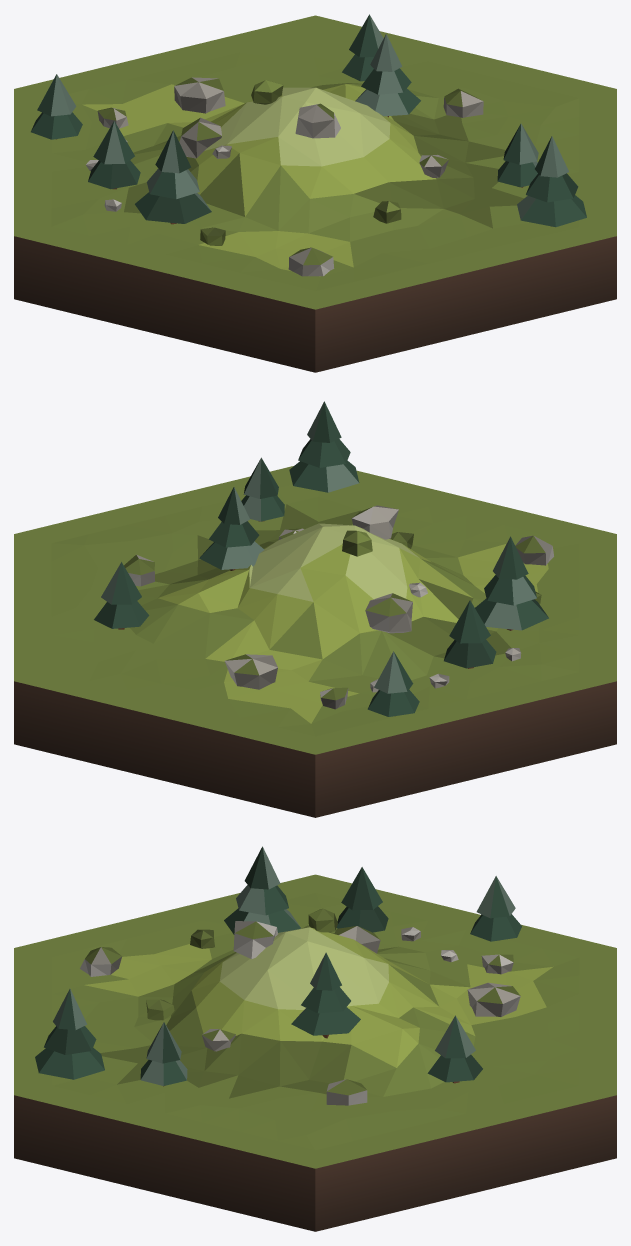
The model's file is SM_Tile_Hills_B.fbx.
3 views of the same model, one above another, from view 1: azimuth 30°, elevation 25°; view 2: azimuth 150°, elevation 25°; view 3: azimuth 270°, elevation 25° (orthographic).
Parts seen in each view (by area): view 1: SM_Tile_Hills_B; view 2: SM_Tile_Hills_B; view 3: SM_Tile_Hills_B.
Part boxes in pixels (<box>): SM_Tile_Hills_B: <box>14,14,616,372</box>; SM_Tile_Hills_B: <box>14,401,616,817</box>; SM_Tile_Hills_B: <box>14,846,616,1231</box>.
Bounding box in the file's own units: 20 × 5.38 × 17.32.
